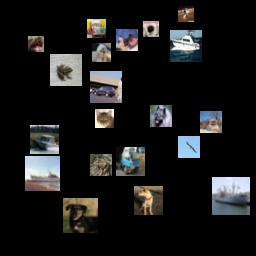automobile: (90, 71, 122, 103)
bird: (178, 136, 200, 158)
cat: (116, 29, 138, 51), (95, 109, 114, 128)
dog: (63, 198, 98, 233), (134, 186, 163, 215), (200, 111, 222, 133), (150, 105, 172, 127), (92, 43, 111, 62), (28, 36, 44, 52), (143, 21, 159, 37)
frog: (50, 54, 82, 86), (90, 154, 112, 176)
ship: (212, 177, 250, 215), (25, 156, 60, 191), (170, 30, 202, 62), (30, 125, 59, 154)
truck: (116, 147, 145, 176), (87, 19, 106, 38)
